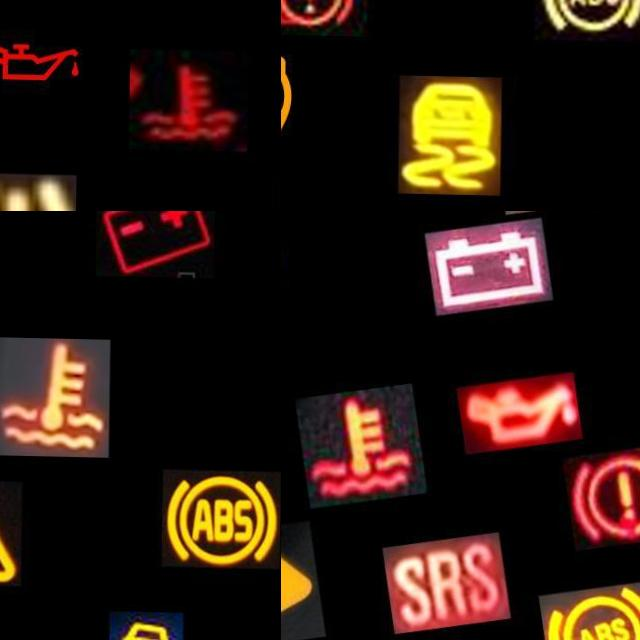Central Warning lamp: (281, 517, 329, 640)
Engine cooling system: (294, 379, 430, 510), (0, 336, 111, 456), (130, 48, 249, 150)
